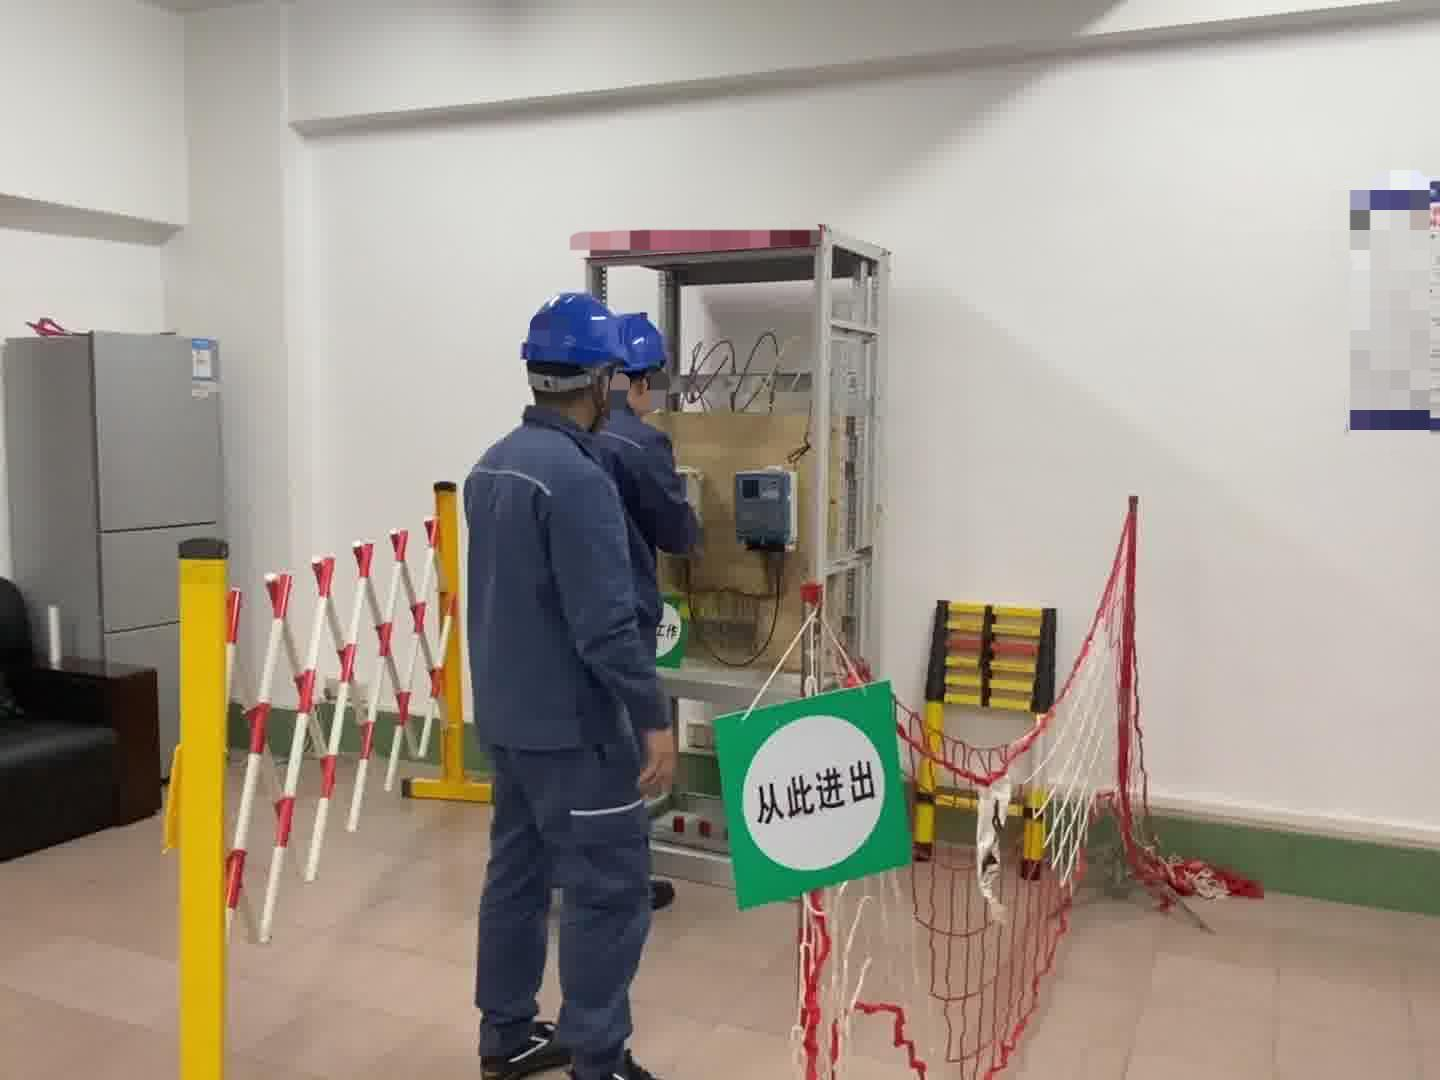halt: (520, 294, 629, 419), (616, 314, 674, 415)
inear: (581, 368, 620, 421)
